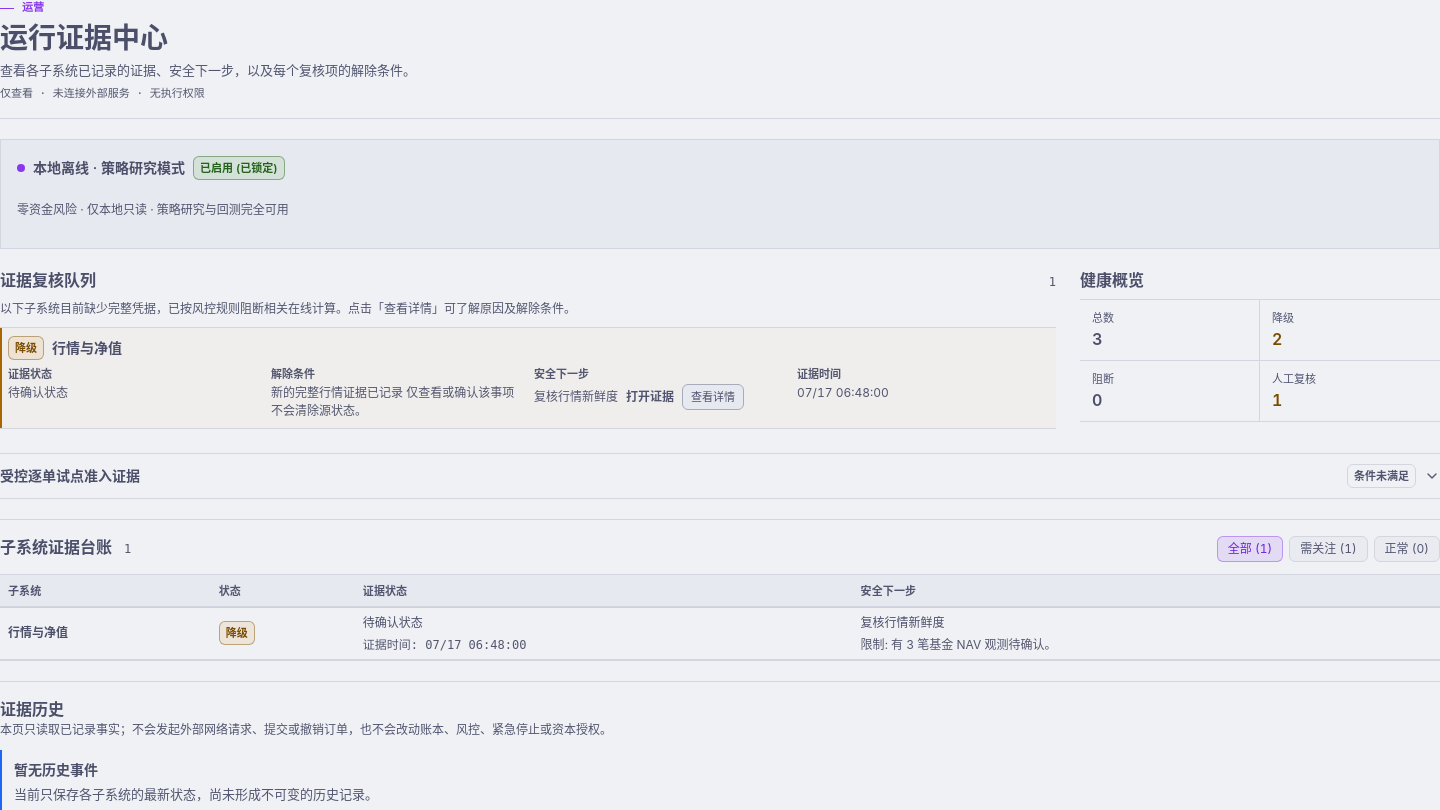
Test: keeps Chinese operations copy product-facing and technical identities progressively disclosed
Expected: the element with test id "operations-page" shows "本页只读取已记录事实", left=0, top=722, right=612, bottom=737
Click the text "受控逐单试点准入证据": (70, 476) left=0, top=466, right=140, bottom=486
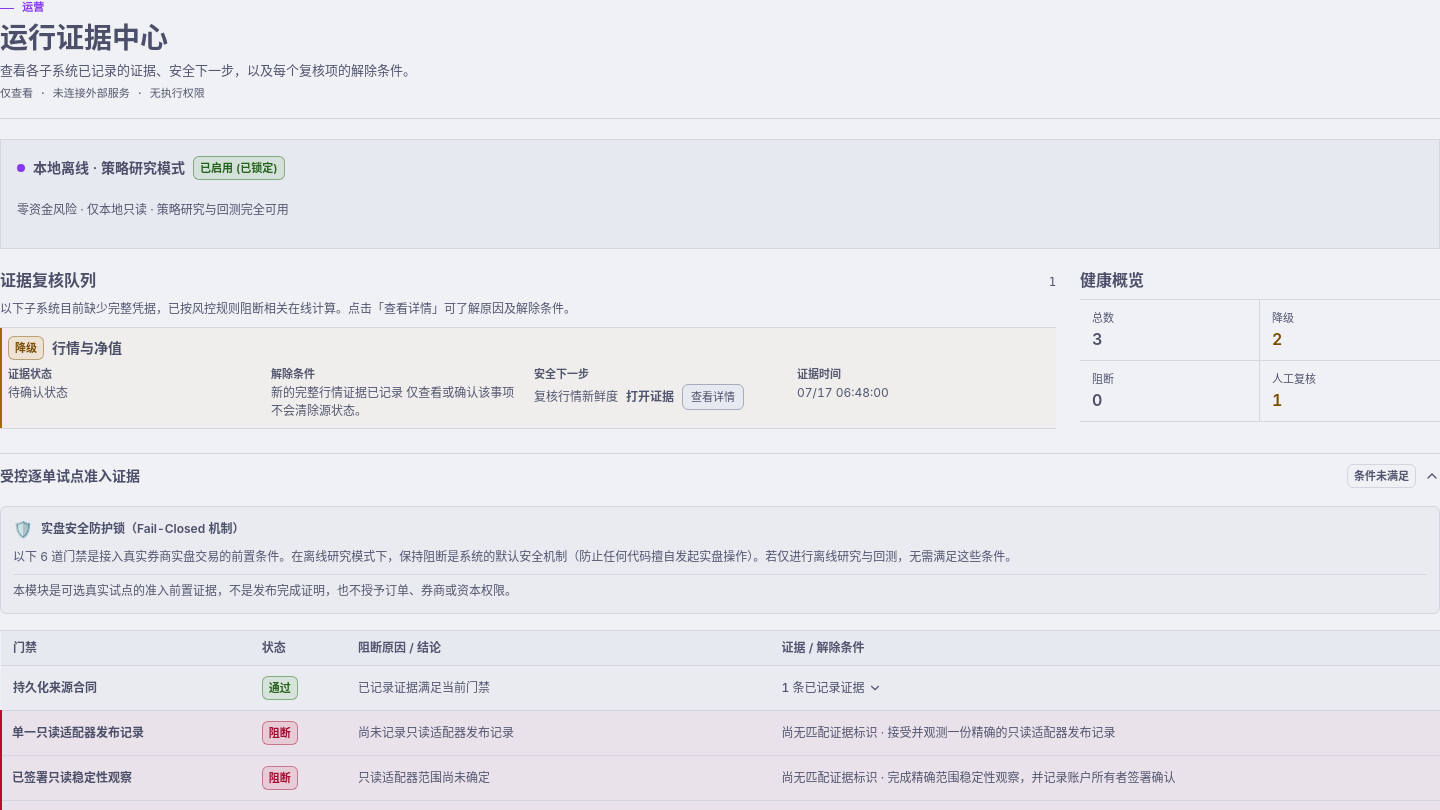
Expected: the element with test id "pilot-gate-evidence-persisted_source_contracts" reads "1 条已记录证据", left=782, top=680, right=864, bottom=694
